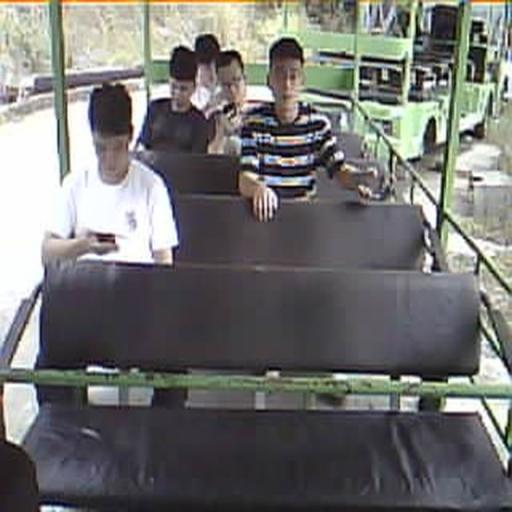persona: (237, 36, 382, 222), (41, 82, 180, 269), (134, 44, 211, 154), (206, 50, 267, 158), (190, 33, 232, 120)
